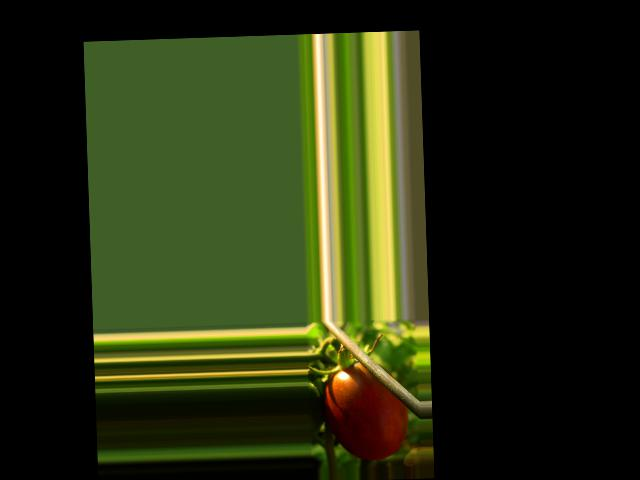tomato: (324, 361, 408, 461)
